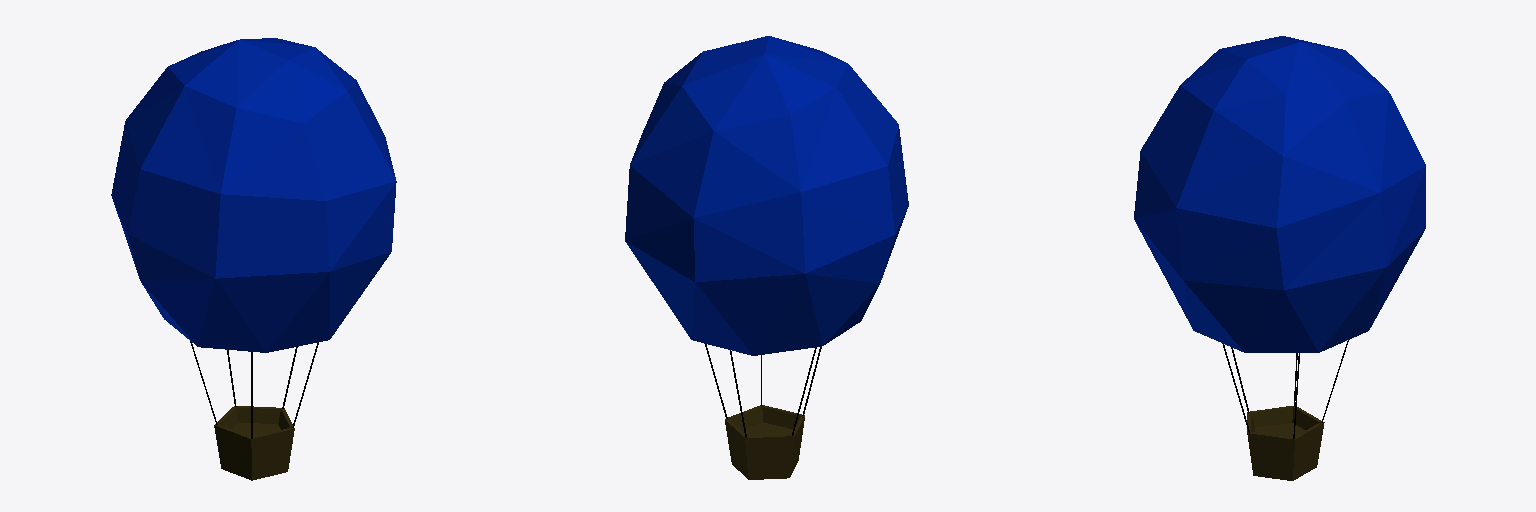
Rendered from BALÃO_01.obj.
3 views of the same model, side by side, from view 1: azimuth 30°, elevation 25°; view 2: azimuth 150°, elevation 25°; view 3: azimuth 270°, elevation 25° (orthographic).
Visible parts, largest first — view 1: Sphere; view 2: Sphere; view 3: Sphere.
Part boxes in pixels (left/top/right/bottom): Sphere: left=111, top=38, right=396, bottom=480; Sphere: left=625, top=36, right=908, bottom=479; Sphere: left=1134, top=36, right=1425, bottom=480.
Size of the model in its own units: 8.35 by 13.18 by 8.29.